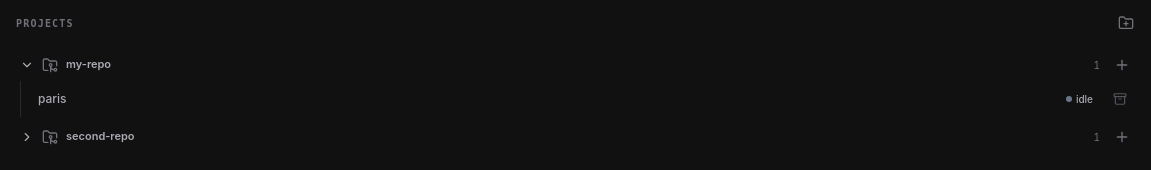
Test case: Sidebar project tree › expands each project to show that project’s sessions
This screenshot has width=1151, height=170.
Check: the text "paris" is shown, box [38,91,67,106]
Check: the text "tokyo" is not shown
Step 1. Click the button with test id "project-toggle" showing "second-repo 1" → click(100, 136), box [12,121,1108,153]
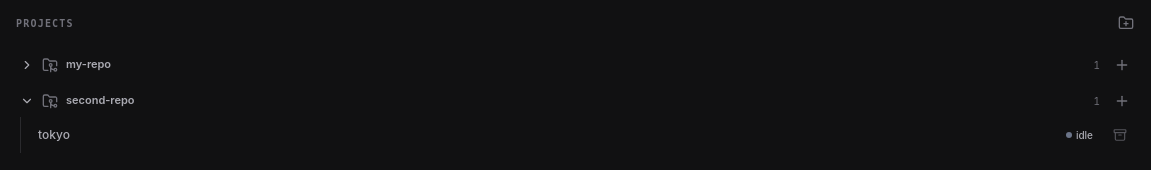
Check: the text "tokyo" is shown, box [38,127,70,142]
